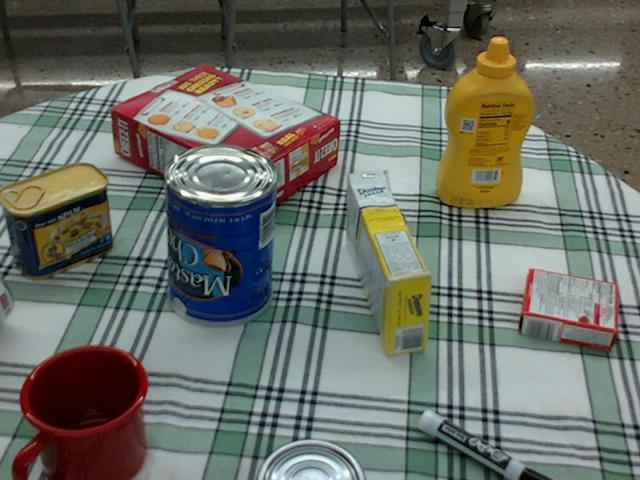cracker_box: (110, 66, 338, 216)
gelatin_box: (518, 269, 615, 351)
large_marker: (418, 409, 551, 479)
master_chef_can: (160, 143, 275, 326)
mug: (14, 342, 142, 479)
mustard_bottle: (435, 37, 532, 206)
potted_meat_can: (0, 162, 112, 279)
sugar_box: (345, 172, 430, 354)
tomato_soup_can: (0, 278, 11, 324)
tuna_fish_can: (253, 441, 363, 479)
